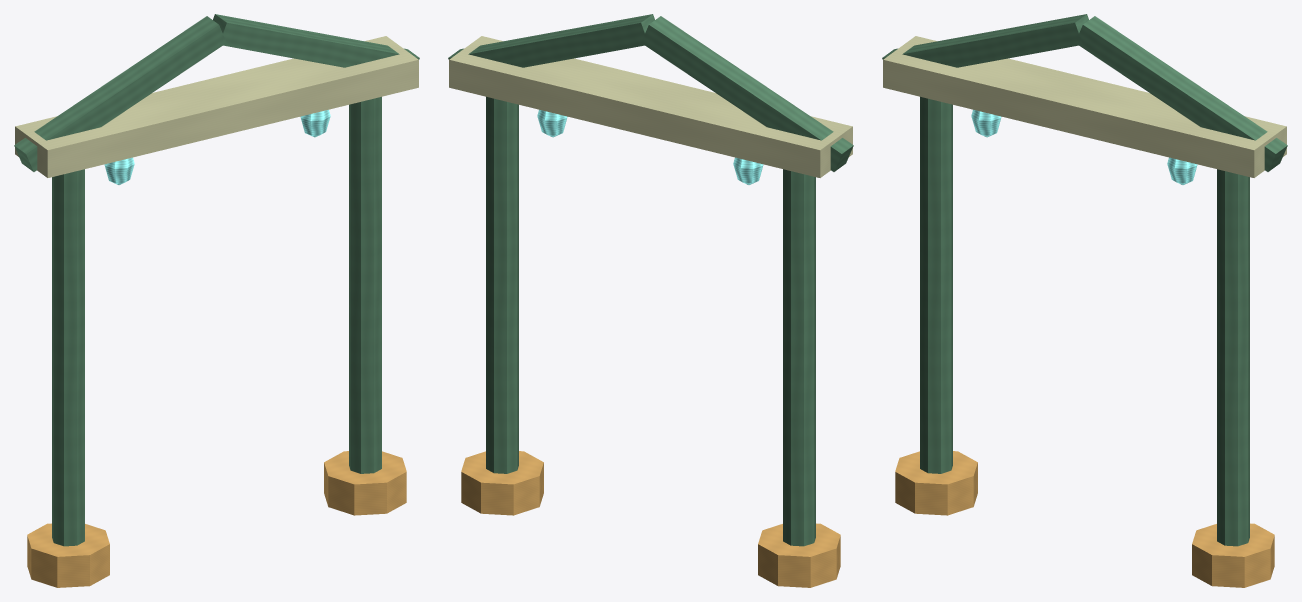
The model's file is atlas100-s001-a09.glb.
3 renders of one model, left to right at view 1: azimuth 30°, elevation 25°; view 2: azimuth 150°, elevation 25°; view 3: azimuth 330°, elevation 25°, orthographic.
Parts seen in each view (by area): view 1: atlas100-s001-a09:part-004, atlas100-s001-a09:part-002, atlas100-s001-a09:part-000, atlas100-s001-a09:part-005, atlas100-s001-a09:part-006, atlas100-s001-a09:part-001, atlas100-s001-a09:part-003, atlas100-s001-a09:part-007, atlas100-s001-a09:part-008; view 2: atlas100-s001-a09:part-004, atlas100-s001-a09:part-002, atlas100-s001-a09:part-000, atlas100-s001-a09:part-005, atlas100-s001-a09:part-006, atlas100-s001-a09:part-001, atlas100-s001-a09:part-003, atlas100-s001-a09:part-007, atlas100-s001-a09:part-008; view 3: atlas100-s001-a09:part-004, atlas100-s001-a09:part-000, atlas100-s001-a09:part-002, atlas100-s001-a09:part-006, atlas100-s001-a09:part-005, atlas100-s001-a09:part-003, atlas100-s001-a09:part-001, atlas100-s001-a09:part-008, atlas100-s001-a09:part-007.
Part boxes in pixels (x1,y1,x2,y2): atlas100-s001-a09:part-004: [15, 36, 418, 177]; atlas100-s001-a09:part-002: [349, 96, 381, 473]; atlas100-s001-a09:part-000: [52, 169, 84, 546]; atlas100-s001-a09:part-005: [14, 16, 226, 171]; atlas100-s001-a09:part-006: [213, 14, 419, 67]; atlas100-s001-a09:part-001: [27, 523, 109, 587]; atlas100-s001-a09:part-003: [324, 451, 406, 515]; atlas100-s001-a09:part-007: [104, 157, 134, 184]; atlas100-s001-a09:part-008: [300, 109, 330, 137]; atlas100-s001-a09:part-004: [449, 36, 852, 177]; atlas100-s001-a09:part-002: [486, 96, 518, 473]; atlas100-s001-a09:part-000: [783, 169, 815, 546]; atlas100-s001-a09:part-005: [641, 16, 853, 171]; atlas100-s001-a09:part-006: [448, 14, 654, 67]; atlas100-s001-a09:part-001: [758, 523, 840, 587]; atlas100-s001-a09:part-003: [461, 451, 543, 515]; atlas100-s001-a09:part-007: [733, 157, 763, 184]; atlas100-s001-a09:part-008: [537, 109, 567, 137]; atlas100-s001-a09:part-004: [883, 36, 1286, 177]; atlas100-s001-a09:part-000: [920, 96, 952, 473]; atlas100-s001-a09:part-002: [1217, 169, 1249, 546]; atlas100-s001-a09:part-006: [1076, 16, 1287, 171]; atlas100-s001-a09:part-005: [882, 14, 1088, 67]; atlas100-s001-a09:part-003: [1192, 523, 1274, 587]; atlas100-s001-a09:part-001: [895, 451, 977, 515]; atlas100-s001-a09:part-008: [1167, 157, 1197, 184]; atlas100-s001-a09:part-007: [971, 109, 1001, 137].
Size of the model in its own units: 2.65 by 3.31 by 0.5.
4 materials, 4 textured.
